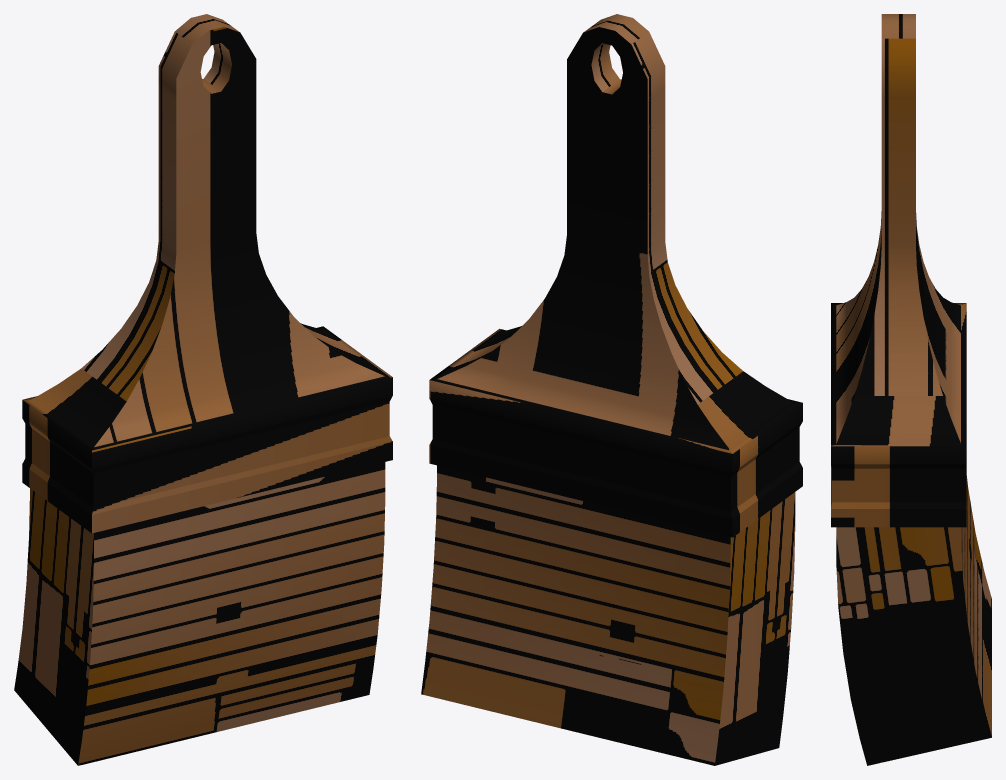
The model's file is Brush.fbx.
3 views of the same model, side by side, from view 1: azimuth 30°, elevation 25°; view 2: azimuth 150°, elevation 25°; view 3: azimuth 270°, elevation 25° (orthographic). The views are drawn at different scales.
Parts seen in each view (by area): view 1: Plane; view 2: Plane; view 3: Plane.
Part boxes in pixels (left/top/right/bottom): Plane: left=14, top=14, right=392, bottom=765; Plane: left=421, top=14, right=802, bottom=765; Plane: left=831, top=14, right=991, bottom=765.
Size of the model in its own units: 200 by 442 by 94.99.
